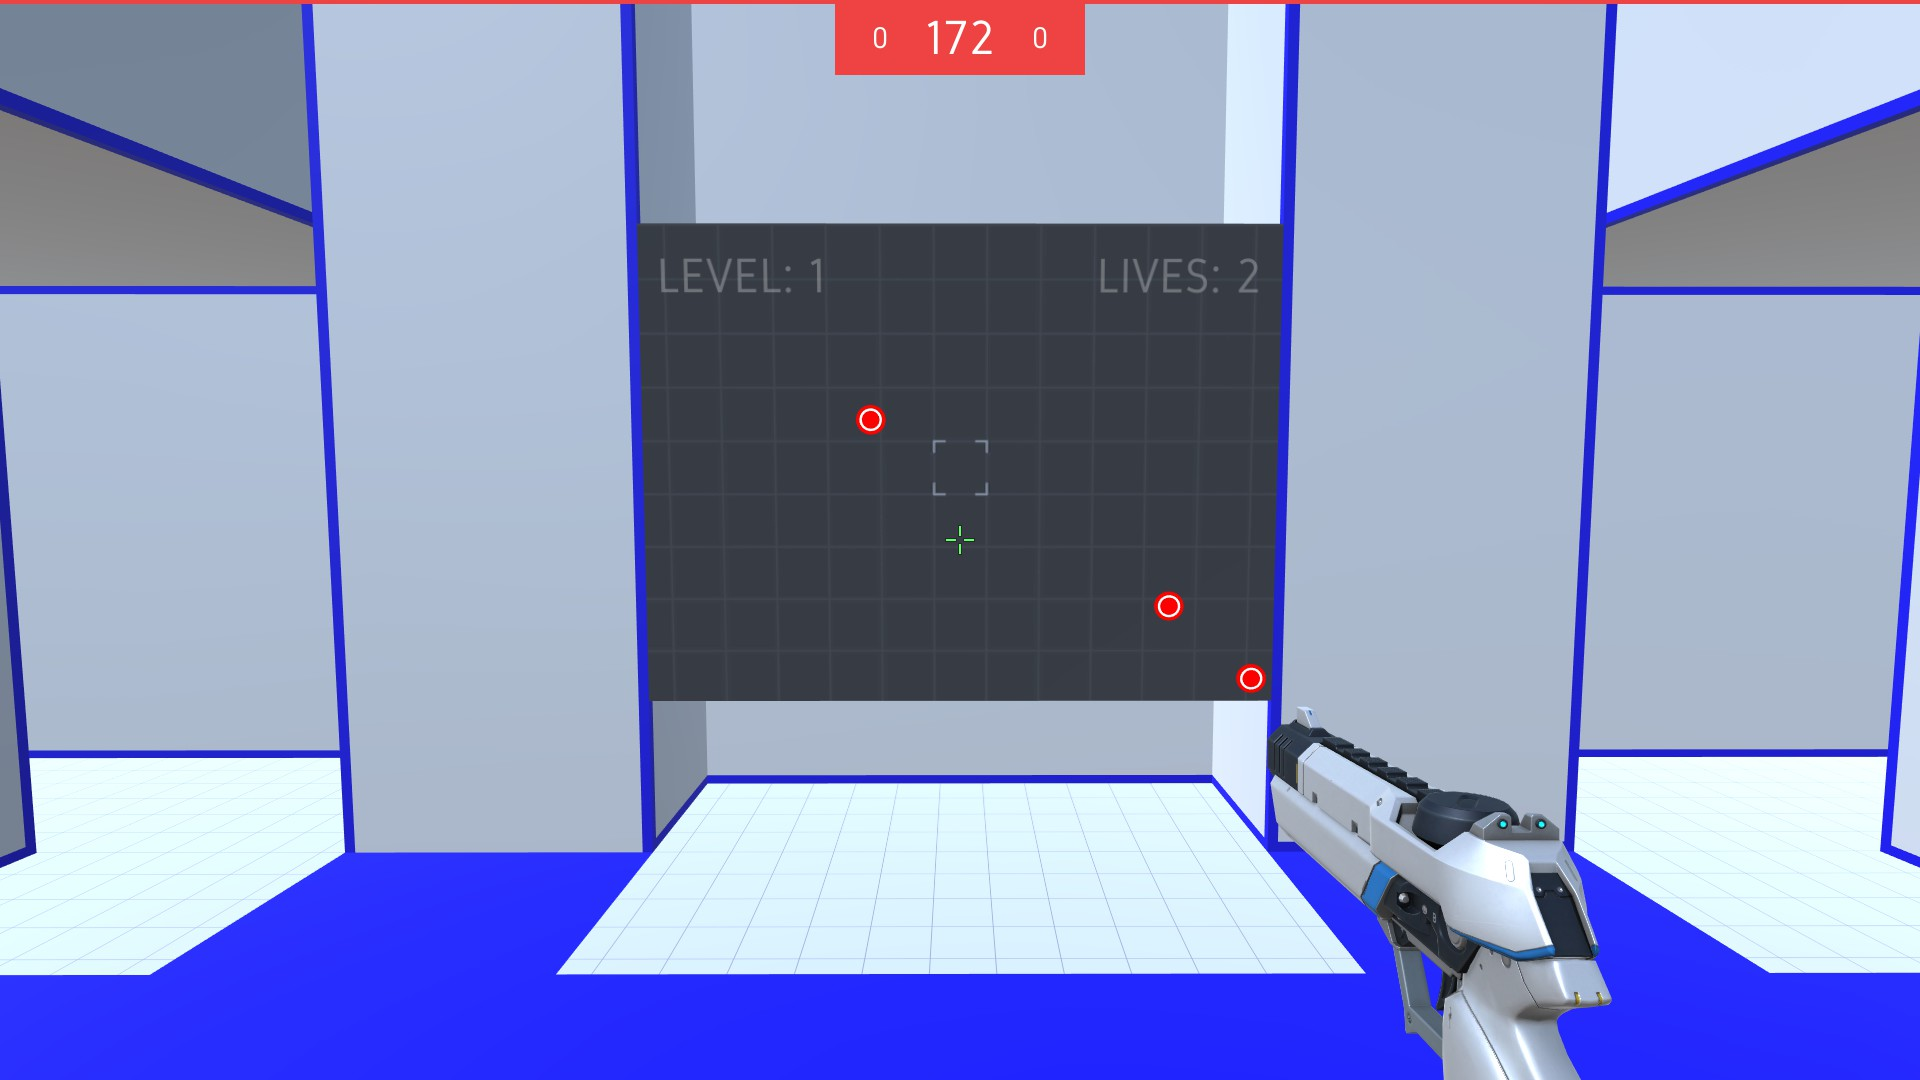target: (1151, 589, 1185, 621), (853, 404, 886, 434), (1234, 665, 1267, 695)
